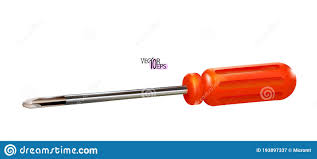Screwdriver: (13, 51, 304, 121)
